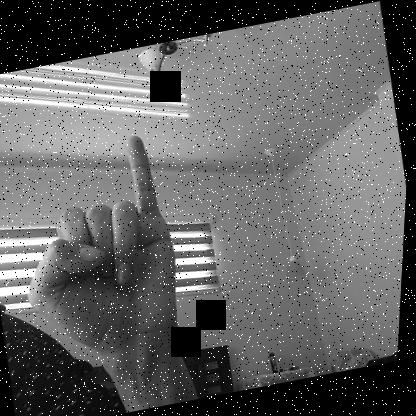I: (0, 127, 199, 364)
